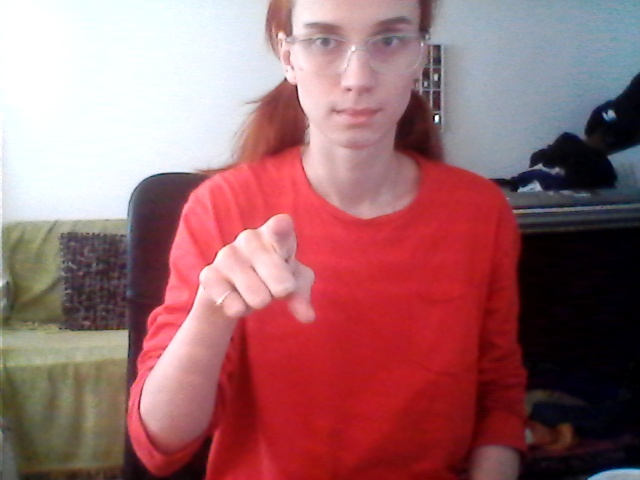ty: (194, 196, 338, 336)
